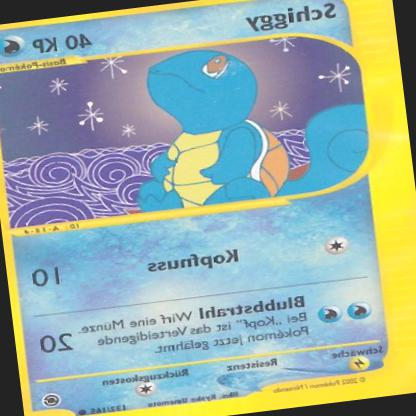Squirtle: (110, 40, 298, 214)
